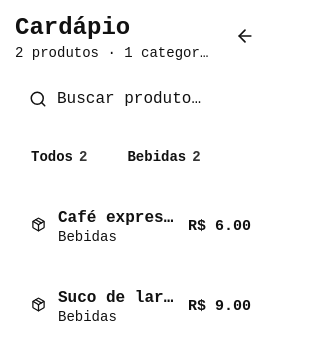
Test: CardapioModulo, busca › 'cafe' sem acento acha o Café expresso
Type "cafe" into the search field with placeholder "Buscar produto…".
click(155, 99); type("cafe")  # box [57,90,253,108]
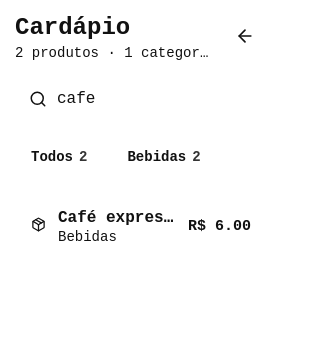
Expected: the text "Café expresso" is shown, [58,209,178,227]
Expected: the text "Suco de laranja" is gone
